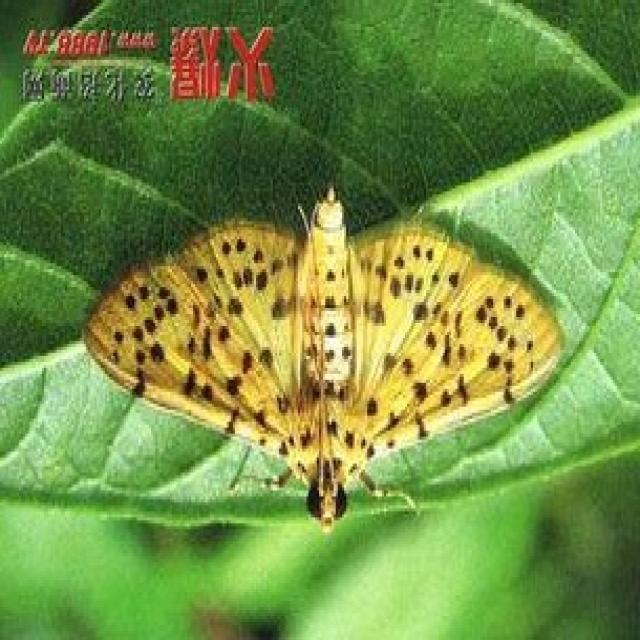peach borer: (75, 167, 570, 541)
